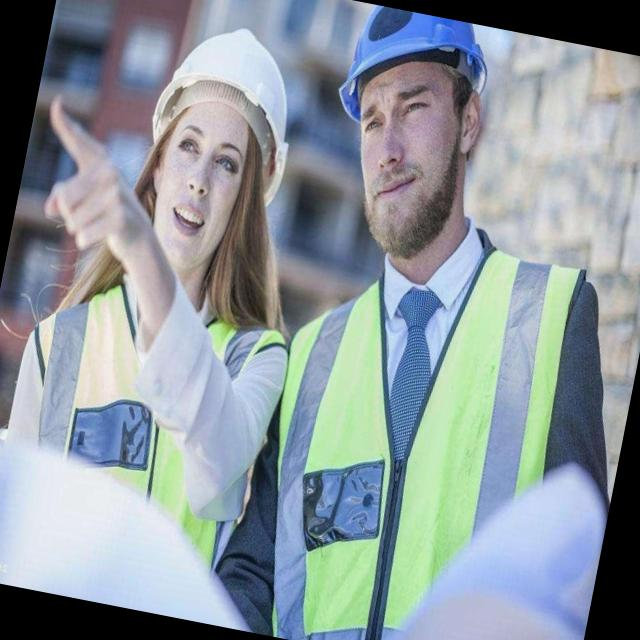helmet: (136, 1, 326, 182), (332, 1, 499, 151)
vest: (228, 199, 605, 640), (2, 268, 288, 538)
